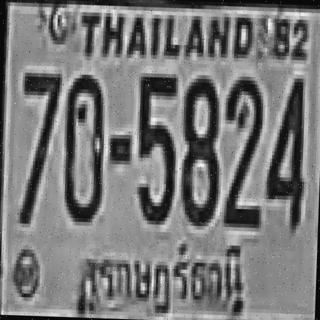N00: (62, 70, 104, 219)
N02: (222, 74, 262, 226)
N04: (263, 76, 305, 228)
N05: (134, 69, 176, 221)
N07: (18, 69, 60, 224), (19, 69, 60, 177)
N08: (178, 74, 220, 223)
P67: (77, 240, 255, 320)
